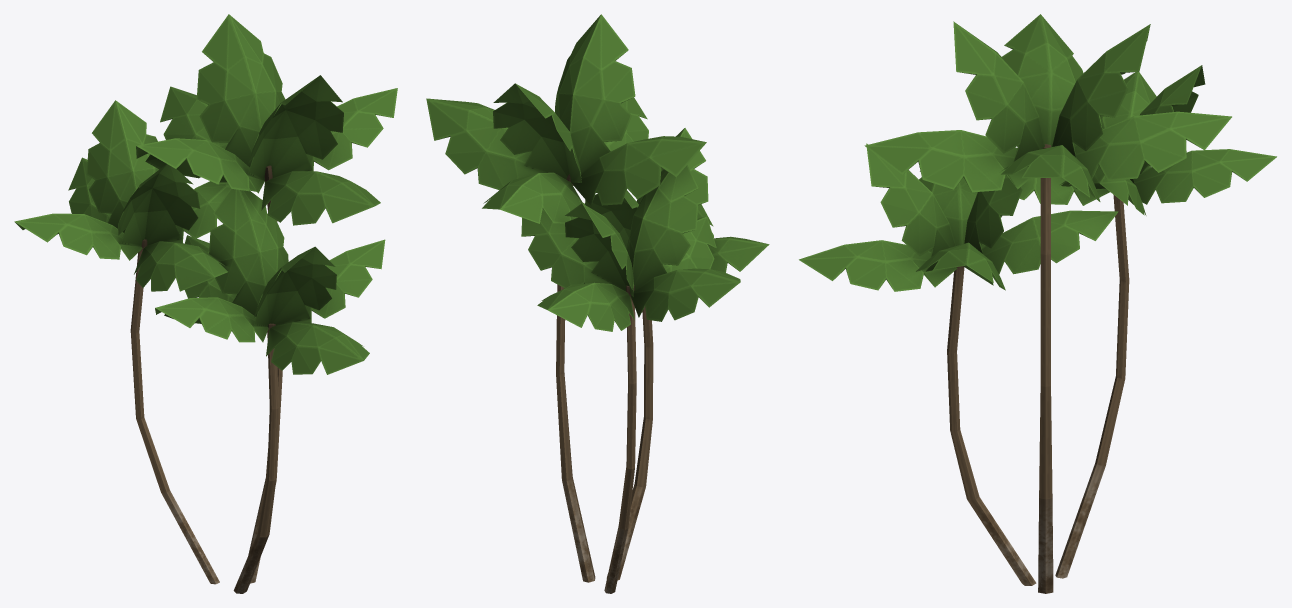
Rendered from PALEMERA.gltf.
3 renders of one model, left to right at view 1: azimuth 30°, elevation 25°; view 2: azimuth 150°, elevation 25°; view 3: azimuth 270°, elevation 25°, orthographic. The views are drawn at different scales.
Visible parts, largest first — view 1: node-0; view 2: node-0; view 3: node-0.
Boxes of the visible parts, <box> form: node-0: <box>14,14,397,593</box>; node-0: <box>426,14,769,593</box>; node-0: <box>799,14,1276,593</box>.
Bounding box in the file's own units: 8 × 11.6 × 8.58.
1 material, 1 textured.
